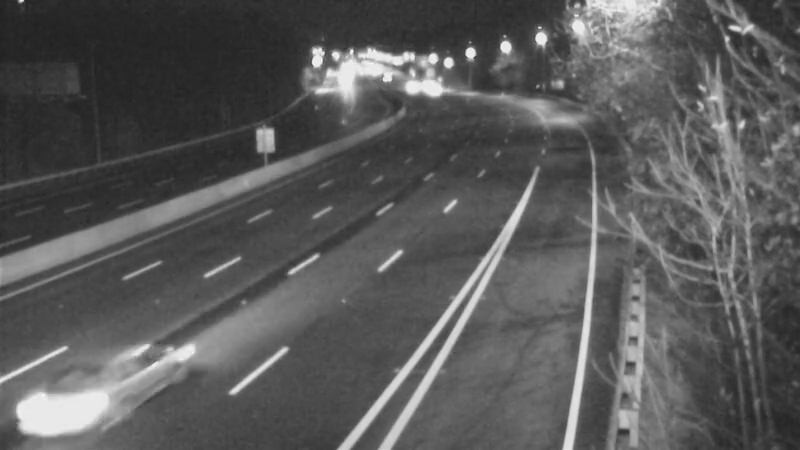vehicle: (36, 338, 146, 448)
